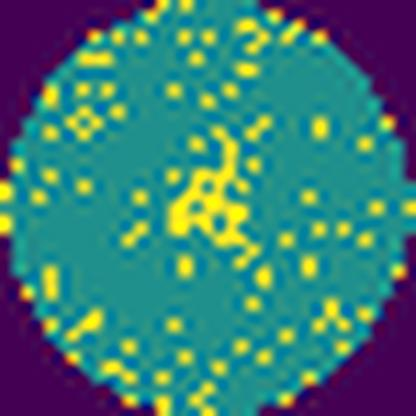Center: (166, 118, 259, 263)
